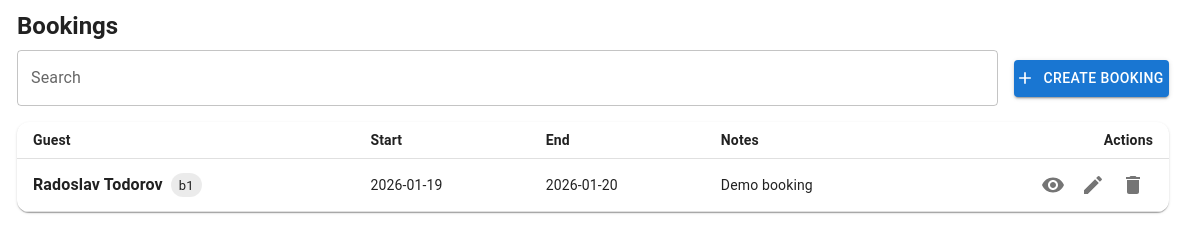
Test: BookingsPage › search filters table rows by guest name
Expected: the text "Radoslav Todorov" is shown, [33, 173, 163, 197]
Type "zzzz-no-match" into the field labelled "Search". click: (508, 78)
box: [17, 50, 998, 106]
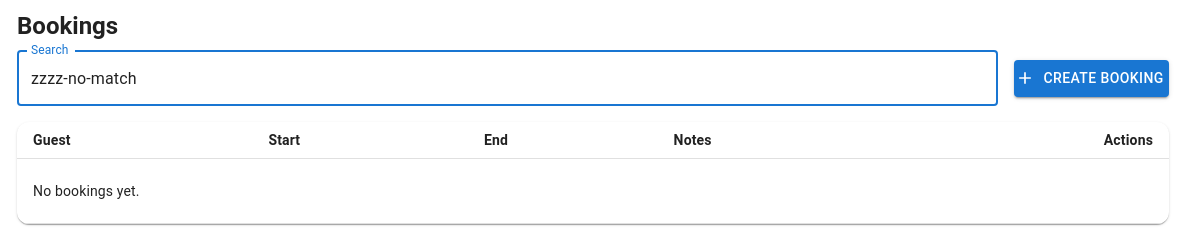
Expected: the text "No bookings yet." is shown, [33, 183, 140, 199]
Expected: the text "Radoslav Todorov" is gone
